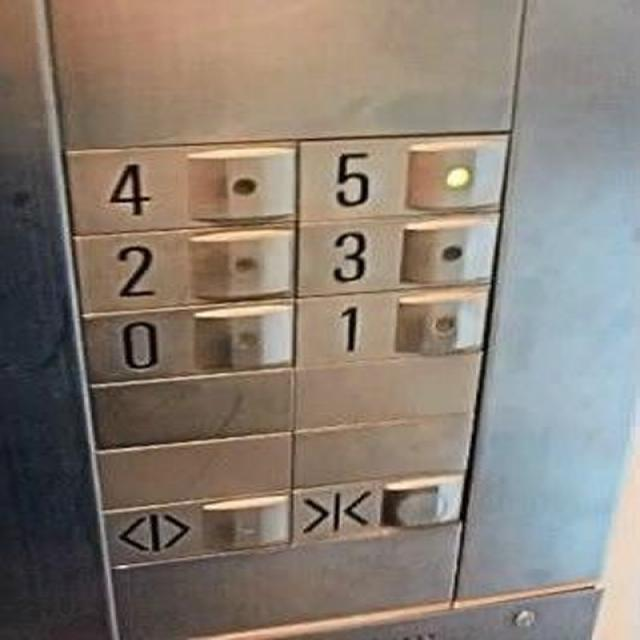0: (75, 292, 301, 388)
1: (285, 280, 500, 373)
2: (65, 215, 304, 318)
3: (288, 204, 508, 302)
4: (56, 135, 304, 238)
5: (292, 125, 517, 226)
close: (286, 467, 474, 548)
open: (95, 487, 297, 572)
